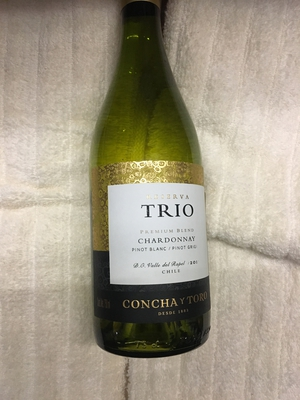trio chardonnay: (82, 25, 220, 355)
